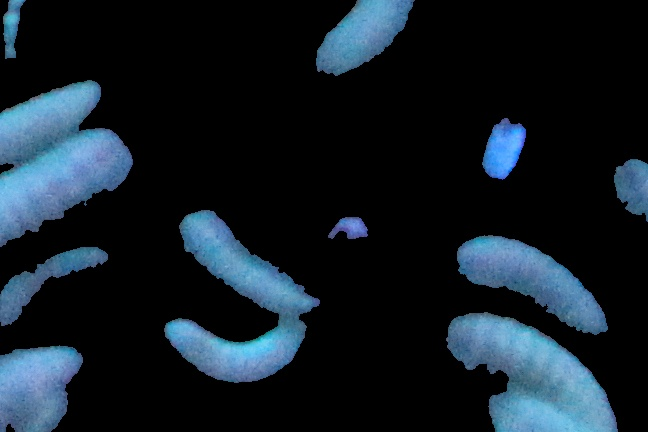larvae: (1, 128, 140, 274), (444, 311, 613, 428), (455, 236, 614, 343), (183, 216, 318, 312), (1, 249, 108, 341), (164, 320, 305, 387), (313, 1, 421, 78), (1, 83, 99, 166), (1, 349, 86, 432), (479, 386, 580, 432)
